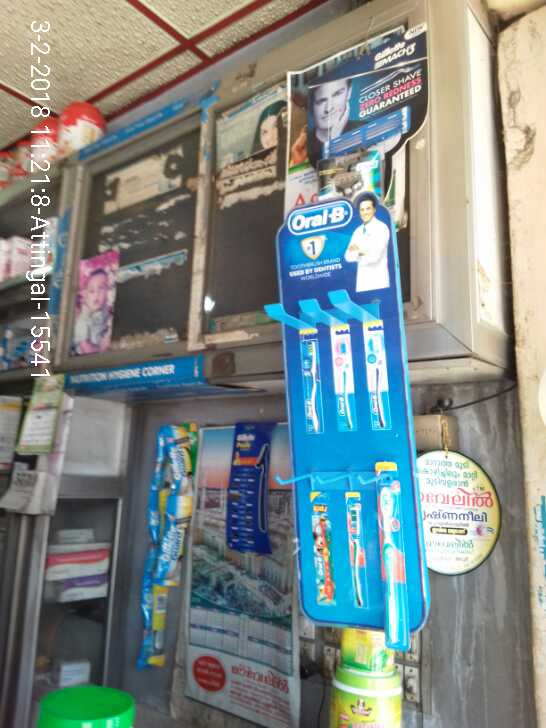beauty: (156, 496, 188, 584), (162, 421, 193, 496), (142, 590, 169, 668)
pharmacy: (377, 460, 410, 648)
